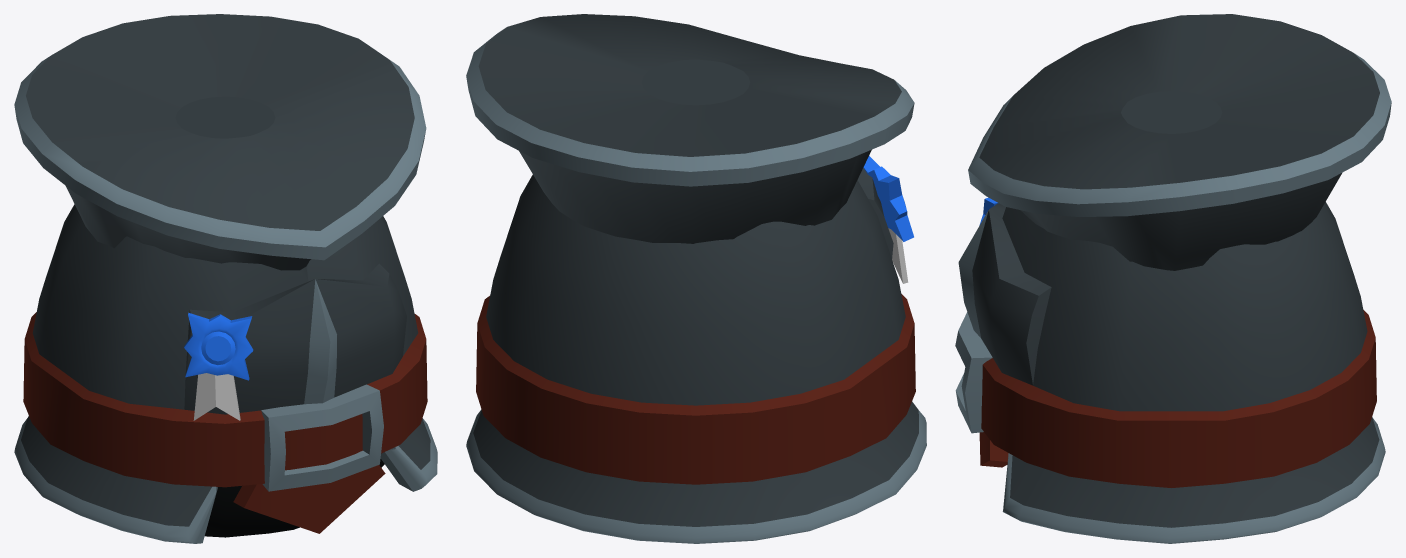
The model's file is body_knight.fbx.
3 renders of one model, left to right at view 1: azimuth 30°, elevation 25°; view 2: azimuth 150°, elevation 25°; view 3: azimuth 270°, elevation 25°, orthographic. The views are drawn at different scales.
Parts seen in each view (by area): view 1: body_knight; view 2: body_knight; view 3: body_knight.
Part boxes in pixels (x1=…): body_knight: x1=14, y1=14, x2=437, y2=543; body_knight: x1=466, y1=14, x2=926, y2=543; body_knight: x1=955, y1=14, x2=1391, y2=543.
Size of the model in its own units: 76.84 by 76.42 by 77.97.
